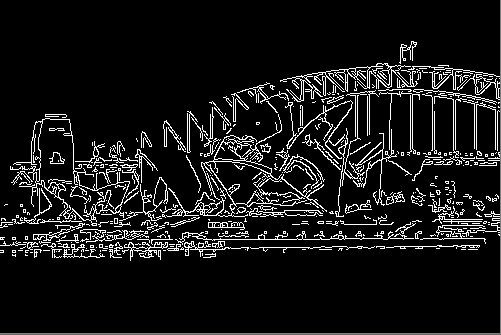opera house: (39, 99, 437, 231)
